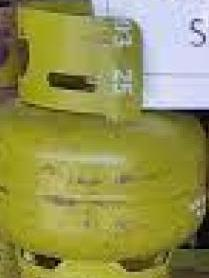cylinder: (1, 0, 209, 278)
